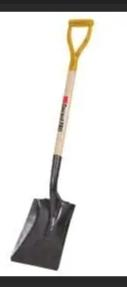PELLE: (9, 12, 122, 278)
